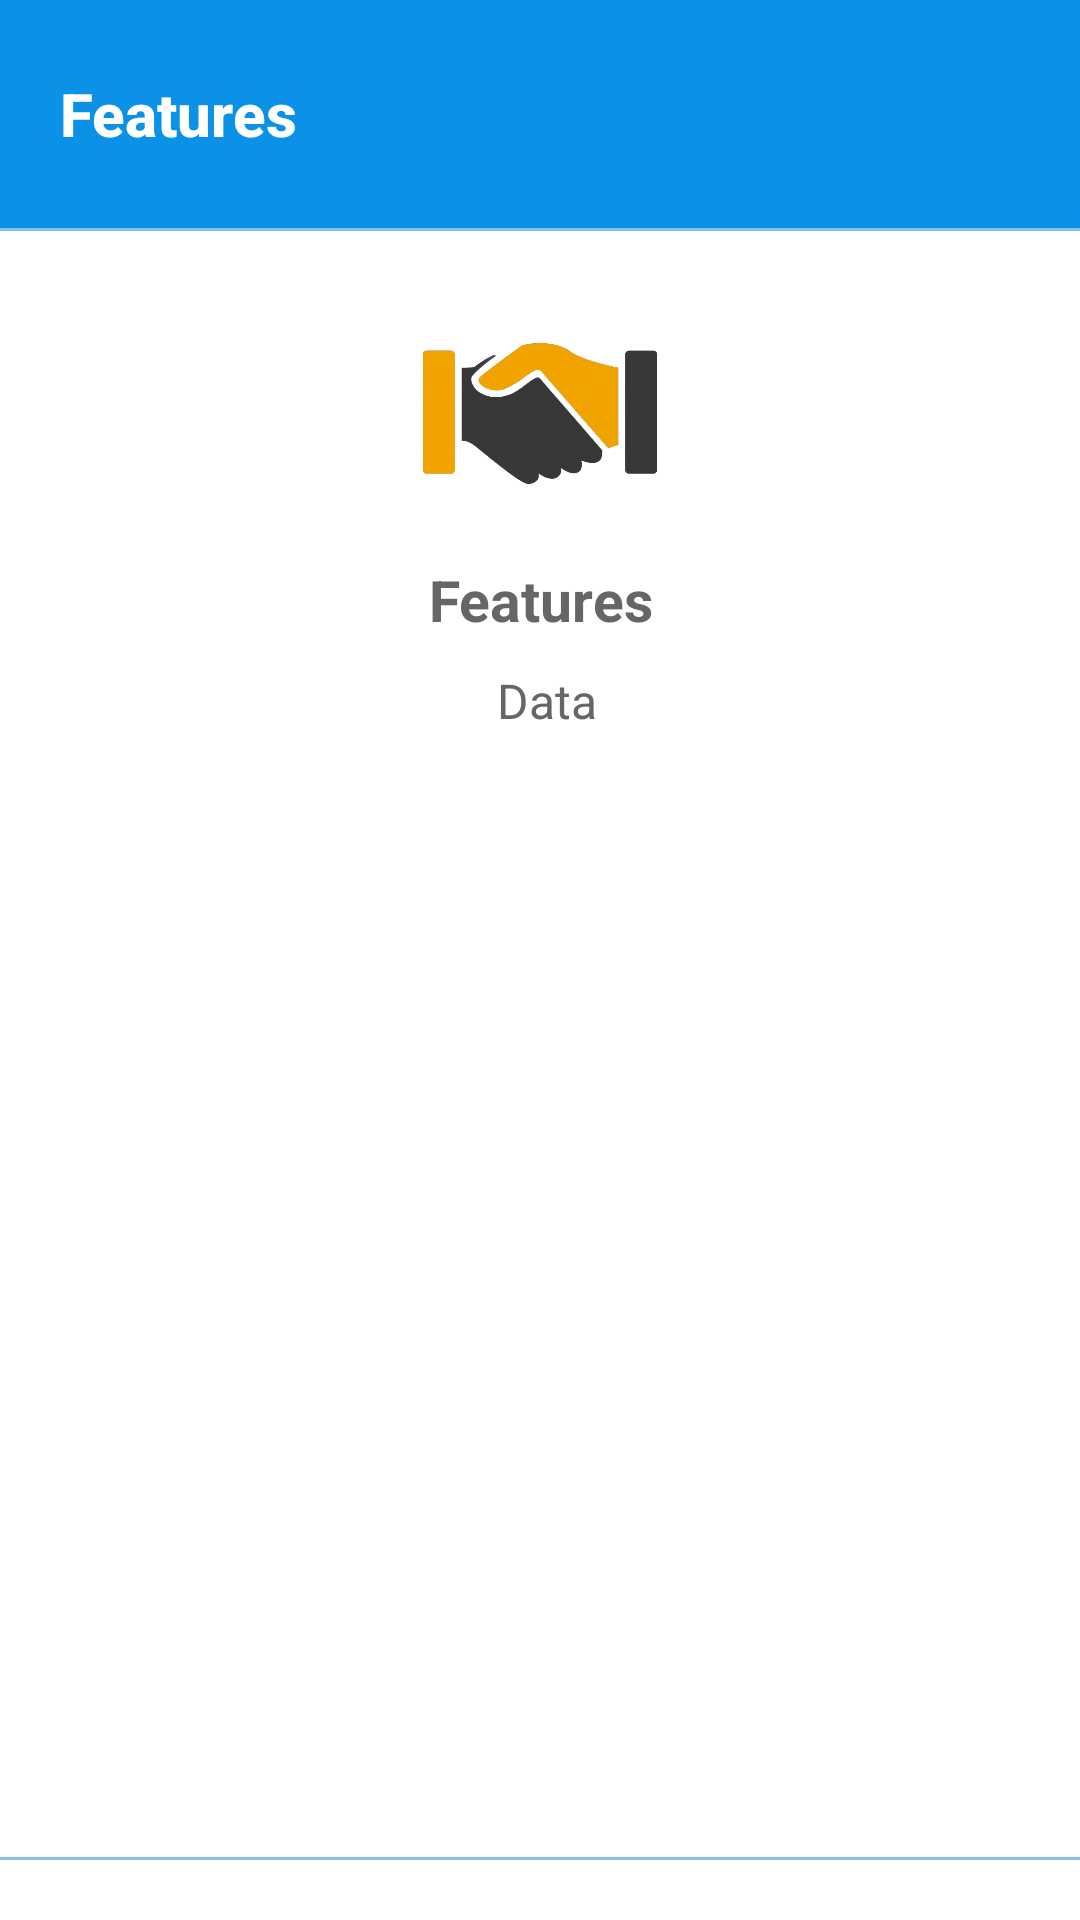

Named icons in this screenshot (1080×1920) and their bounding boxes, rect(x1, y1, x2, y2):
values: rect(423, 343, 657, 484)
